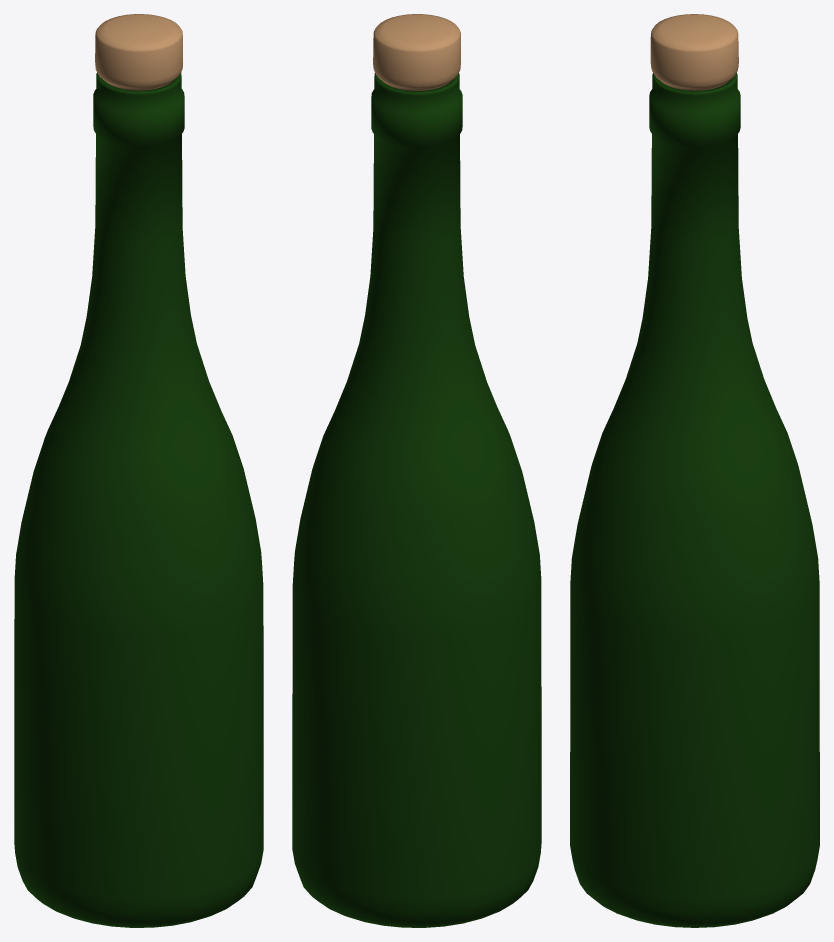
File: Bottle.fbx
The picture shows the model from 3 angles, left to right: view 1: azimuth 30°, elevation 25°; view 2: azimuth 150°, elevation 25°; view 3: azimuth 270°, elevation 25°; orthographic projection.
Visible parts, largest first — view 1: Wine_Bottle_Red, Wine_Bottle_Red_Cork; view 2: Wine_Bottle_Red, Wine_Bottle_Red_Cork; view 3: Wine_Bottle_Red, Wine_Bottle_Red_Cork.
Boxes of the visible parts, left/top/right/bottom form: Wine_Bottle_Red: left=14, top=72, right=263, bottom=927; Wine_Bottle_Red_Cork: left=95, top=14, right=182, bottom=90; Wine_Bottle_Red: left=292, top=73, right=541, bottom=927; Wine_Bottle_Red_Cork: left=373, top=14, right=460, bottom=90; Wine_Bottle_Red: left=570, top=73, right=819, bottom=927; Wine_Bottle_Red_Cork: left=650, top=14, right=738, bottom=90.
Bounding box in the file's own units: 7 × 26.48 × 7.
